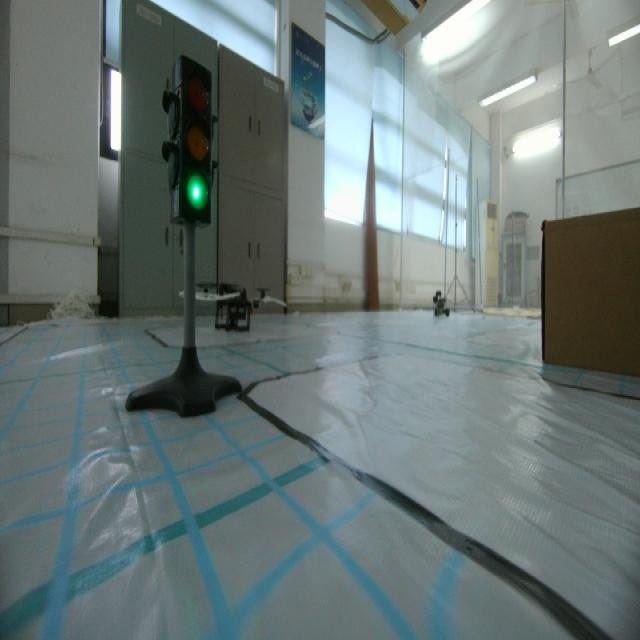green: (149, 50, 227, 232)
